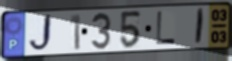1: (69, 13, 82, 52)
3: (90, 11, 113, 51)
5: (118, 9, 143, 50)
I: (194, 7, 206, 47)
J: (27, 13, 54, 54)
L: (155, 11, 177, 46)
